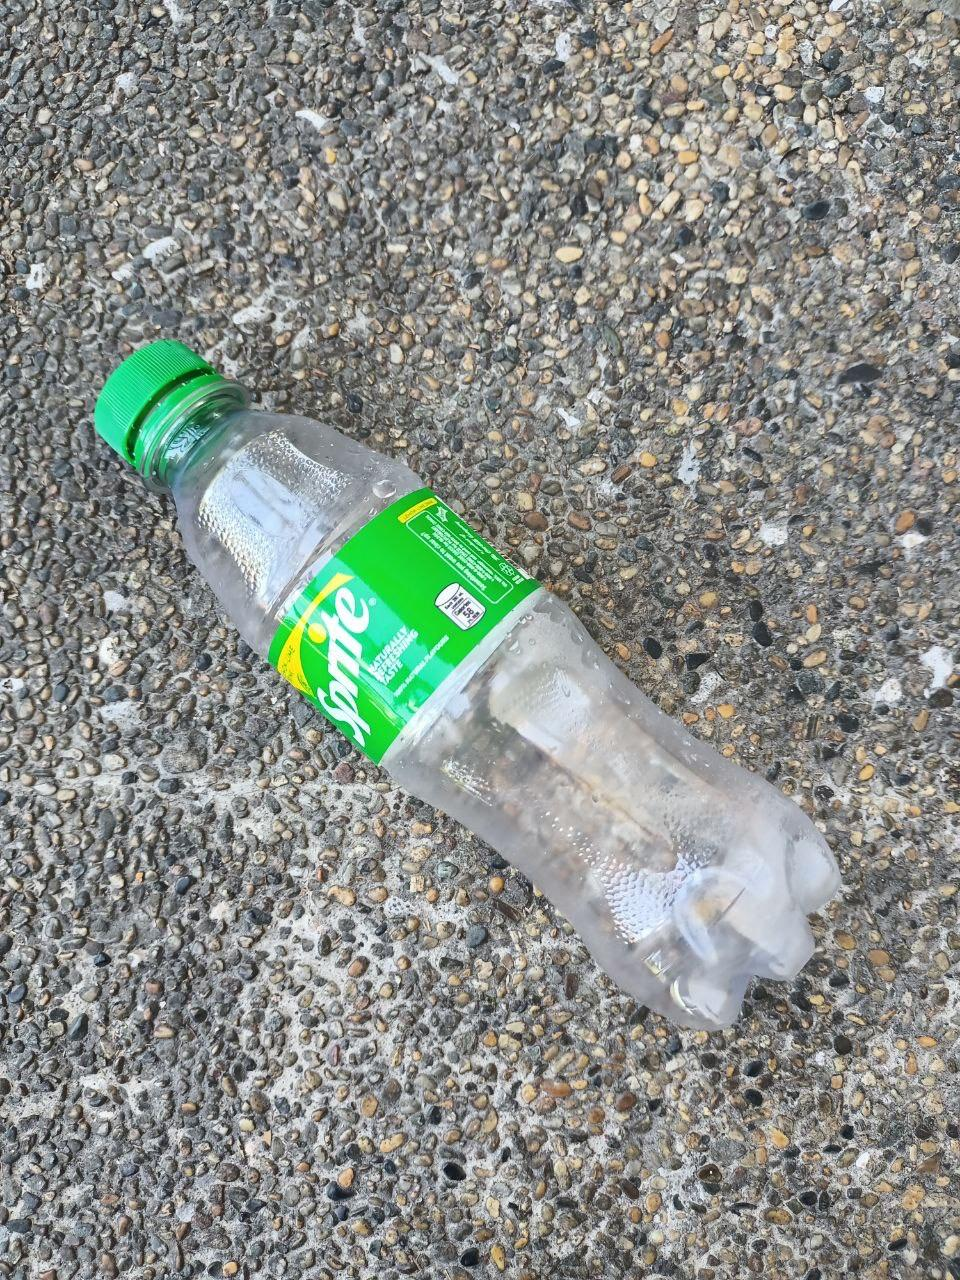plastic: (28, 246, 867, 1102)
